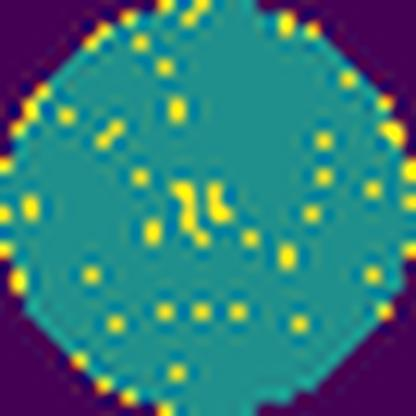Center: (170, 182, 239, 254)
